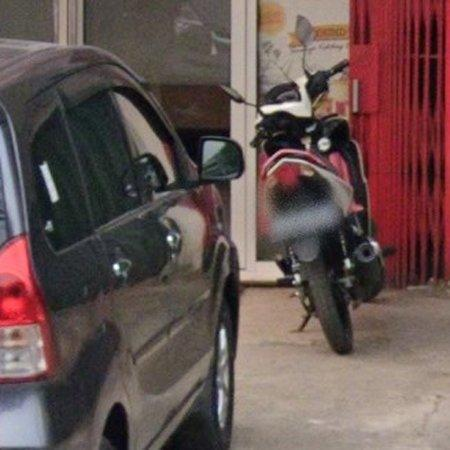motorcycles: (222, 14, 394, 354)
